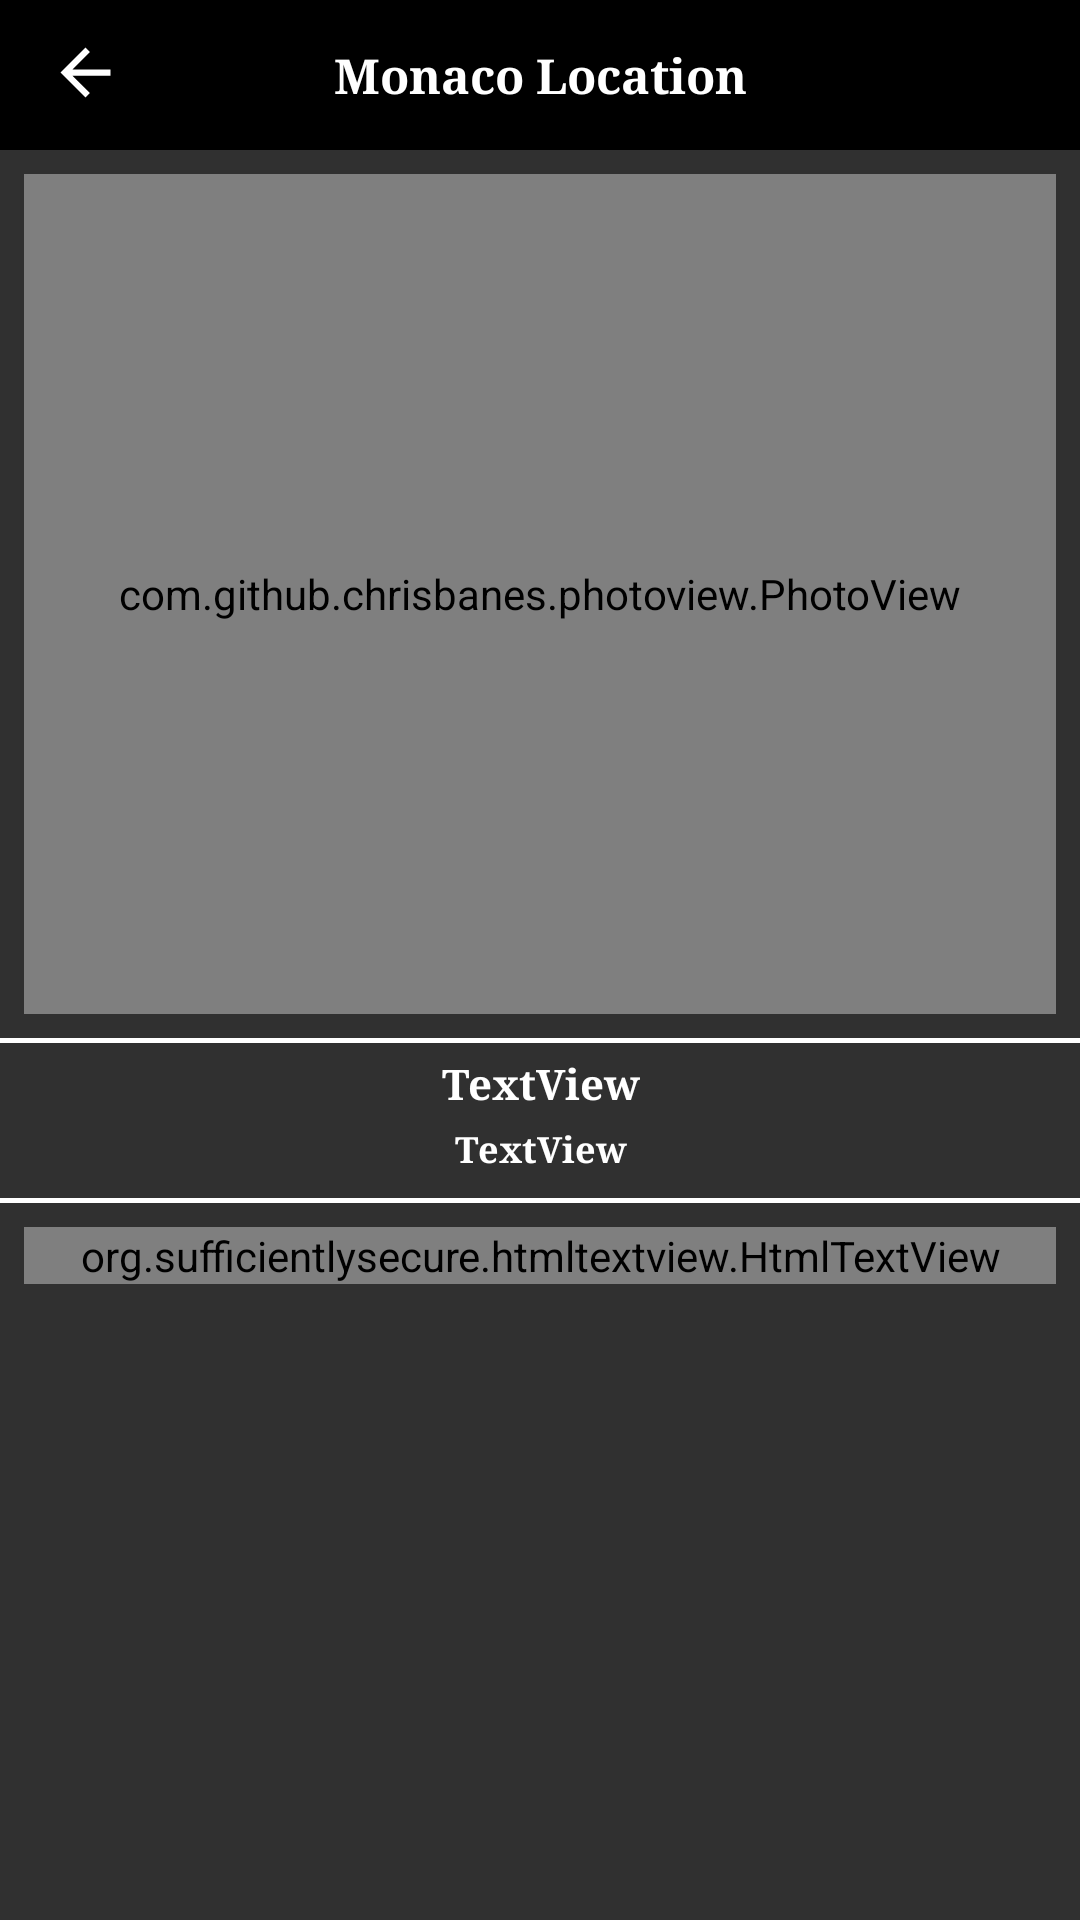

Icons on this 1080*1920 Android screen, each with the point to tap as (x=x, y=y):
arrow: (x=85, y=72)
